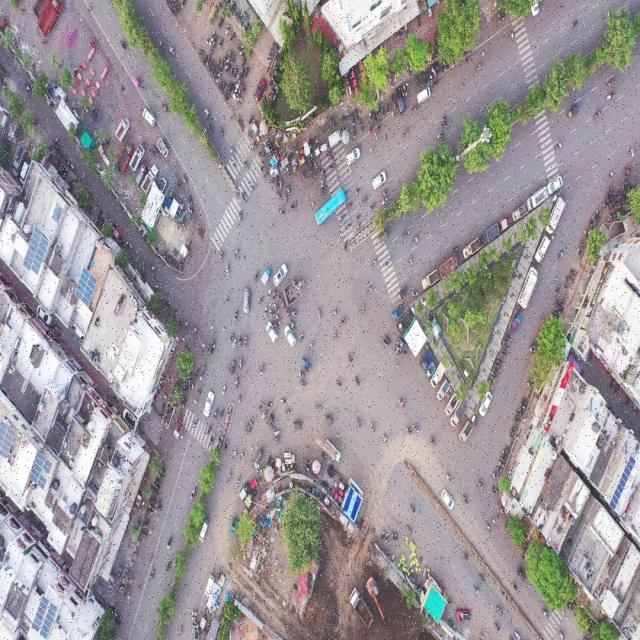3W: (566, 104, 580, 122), (262, 265, 273, 286), (515, 565, 527, 583), (208, 335, 216, 359), (377, 231, 389, 247), (391, 306, 404, 320), (397, 284, 407, 302), (301, 357, 311, 373), (398, 337, 407, 354), (255, 446, 264, 462), (245, 419, 253, 436), (267, 412, 275, 429), (293, 419, 302, 434), (324, 413, 333, 428), (228, 358, 235, 376), (132, 76, 141, 90)
Bus: (313, 186, 348, 229)
Cars: (139, 105, 158, 134), (265, 320, 280, 347), (536, 234, 550, 262), (478, 390, 494, 414), (344, 147, 361, 169), (547, 173, 564, 195), (282, 325, 296, 351), (371, 167, 386, 189), (199, 515, 210, 545), (274, 263, 288, 286), (254, 78, 268, 100), (203, 389, 213, 418), (441, 486, 454, 508), (203, 571, 214, 596), (394, 87, 404, 113), (455, 608, 471, 624), (416, 88, 431, 105), (242, 287, 250, 315)
LCV: (518, 268, 539, 306), (546, 197, 564, 234), (526, 186, 548, 212), (142, 162, 158, 194), (452, 400, 468, 430), (439, 254, 457, 279), (324, 440, 342, 462), (432, 362, 447, 388), (130, 143, 144, 170), (463, 237, 479, 260), (444, 395, 460, 417), (459, 420, 473, 445), (422, 268, 438, 289), (116, 118, 130, 140), (327, 129, 343, 148), (156, 135, 169, 158), (513, 203, 528, 221), (420, 349, 432, 369), (173, 420, 184, 439), (511, 314, 521, 331), (230, 518, 238, 538), (425, 363, 435, 378)
M2W: (604, 164, 616, 183), (554, 138, 564, 152), (605, 90, 616, 102), (593, 108, 603, 121), (570, 18, 580, 31), (368, 422, 377, 436), (148, 566, 157, 580), (506, 28, 516, 40), (478, 573, 487, 586), (496, 605, 505, 618), (492, 620, 501, 633), (278, 205, 287, 218), (557, 247, 566, 260), (405, 524, 413, 538), (472, 585, 480, 599), (158, 38, 166, 52), (513, 629, 523, 640), (358, 304, 368, 315), (407, 502, 416, 514), (462, 550, 471, 562), (401, 228, 410, 240), (607, 76, 616, 88), (192, 417, 199, 432), (315, 306, 322, 321), (511, 581, 519, 594), (477, 481, 485, 494), (235, 473, 243, 486), (289, 202, 299, 212), (370, 259, 380, 269), (460, 494, 469, 505), (228, 159, 237, 170), (400, 130, 411, 139), (485, 522, 492, 536), (253, 270, 260, 284), (241, 191, 248, 205), (382, 434, 390, 446), (365, 284, 373, 296), (236, 209, 242, 225), (228, 145, 236, 157), (217, 126, 225, 138), (118, 41, 126, 53), (167, 534, 173, 550), (219, 406, 225, 422), (233, 247, 240, 260), (223, 439, 230, 452), (213, 407, 220, 420), (220, 384, 227, 397), (228, 332, 235, 345), (181, 174, 188, 187), (218, 36, 225, 49), (347, 351, 353, 366), (256, 402, 265, 412), (314, 403, 324, 412), (225, 261, 230, 279), (411, 236, 420, 246), (380, 188, 389, 198), (353, 186, 362, 196), (247, 181, 255, 192), (204, 108, 212, 119), (541, 608, 548, 620), (445, 473, 452, 485), (429, 436, 436, 448), (414, 422, 421, 434), (405, 425, 412, 437), (356, 416, 362, 430), (353, 374, 360, 386), (332, 306, 339, 318), (168, 44, 175, 56), (191, 486, 197, 500), (238, 449, 245, 461), (232, 448, 238, 462), (234, 376, 241, 388), (261, 409, 268, 421), (260, 362, 266, 376), (232, 308, 238, 322), (343, 239, 349, 253), (475, 62, 482, 74), (320, 451, 327, 463), (334, 379, 343, 388), (360, 195, 369, 204), (438, 120, 447, 129), (451, 244, 460, 253), (266, 401, 276, 409), (279, 396, 287, 406), (243, 333, 248, 349), (355, 222, 363, 232), (344, 220, 352, 230), (398, 397, 404, 410), (272, 287, 278, 300), (218, 249, 224, 262), (162, 102, 168, 115), (479, 232, 485, 245), (72, 67, 78, 80), (383, 258, 390, 269), (336, 232, 343, 243), (308, 340, 314, 352), (258, 296, 264, 308), (177, 624, 183, 636), (226, 471, 232, 483), (284, 408, 293, 416), (439, 113, 447, 122), (502, 344, 510, 353), (554, 284, 560, 296), (508, 431, 514, 443), (448, 618, 456, 627), (198, 48, 204, 60), (307, 161, 313, 173), (340, 316, 347, 326), (207, 124, 214, 134), (208, 435, 215, 445), (207, 424, 214, 434), (238, 357, 243, 371), (273, 428, 280, 438), (381, 198, 388, 208), (339, 212, 346, 222), (412, 288, 419, 298), (517, 305, 524, 315), (275, 313, 281, 324), (236, 393, 242, 404), (434, 132, 445, 138), (447, 387, 453, 398), (224, 24, 230, 35), (238, 335, 243, 348), (385, 102, 390, 115), (389, 77, 394, 90), (442, 60, 447, 73), (241, 82, 246, 95), (298, 380, 306, 388), (407, 257, 414, 266), (346, 201, 353, 210), (329, 162, 336, 171), (432, 79, 439, 88), (532, 258, 539, 267), (332, 332, 338, 342), (299, 332, 304, 344), (274, 303, 280, 313), (267, 288, 272, 300), (243, 160, 249, 170), (166, 560, 171, 572), (232, 336, 236, 351), (320, 168, 326, 178), (217, 18, 223, 28), (239, 44, 245, 54), (234, 66, 239, 78), (202, 54, 207, 66), (213, 35, 218, 47), (89, 104, 95, 114), (247, 114, 253, 124), (262, 170, 268, 180), (287, 181, 291, 196), (298, 371, 306, 378), (353, 214, 360, 222), (493, 362, 501, 369), (142, 521, 150, 528), (263, 306, 268, 317), (403, 85, 408, 96), (414, 76, 419, 87), (230, 31, 235, 42), (206, 56, 211, 67), (270, 309, 276, 318), (291, 308, 297, 317), (272, 320, 278, 329), (319, 188, 325, 197), (553, 297, 559, 306), (551, 310, 560, 316), (148, 147, 154, 156), (222, 54, 228, 63), (215, 73, 221, 82), (225, 93, 231, 102), (354, 110, 358, 123), (382, 338, 387, 348), (501, 10, 506, 20), (210, 44, 215, 54), (244, 68, 249, 78), (240, 69, 245, 79), (221, 82, 226, 92), (226, 80, 231, 90), (492, 367, 499, 374), (492, 473, 499, 480), (272, 437, 279, 444), (140, 530, 147, 537), (370, 202, 376, 210), (351, 114, 355, 126), (497, 11, 501, 23), (527, 381, 533, 389), (500, 350, 506, 358), (520, 402, 526, 410), (513, 417, 519, 425), (564, 275, 568, 287), (568, 274, 574, 282), (153, 488, 159, 496), (206, 38, 212, 46), (93, 110, 97, 122), (260, 160, 264, 172), (279, 178, 283, 190), (284, 192, 288, 204), (352, 128, 356, 139), (360, 122, 364, 133), (381, 107, 385, 118), (418, 74, 422, 85), (196, 369, 200, 380), (154, 145, 158, 156), (496, 357, 502, 364), (492, 489, 498, 496), (499, 457, 506, 463), (570, 269, 576, 276), (147, 509, 153, 516), (147, 503, 154, 509), (426, 74, 430, 84), (436, 65, 440, 75), (516, 410, 520, 420), (381, 530, 385, 540), (211, 31, 215, 41), (231, 55, 235, 65), (229, 48, 233, 58), (220, 63, 224, 73), (218, 80, 222, 90), (377, 120, 380, 132), (378, 104, 381, 116), (423, 73, 426, 85), (496, 468, 502, 474), (242, 59, 246, 68), (384, 336, 389, 343), (507, 330, 512, 337), (497, 462, 504, 467), (390, 93, 393, 104), (217, 59, 220, 70), (441, 64, 444, 74), (504, 340, 510, 345), (505, 337, 512, 341), (385, 533, 388, 542), (230, 68, 233, 77), (511, 427, 516, 432), (375, 110, 378, 118), (502, 450, 508, 454), (374, 113, 376, 123)
Truck: (350, 588, 372, 630), (37, 1, 63, 33), (114, 141, 133, 174)
